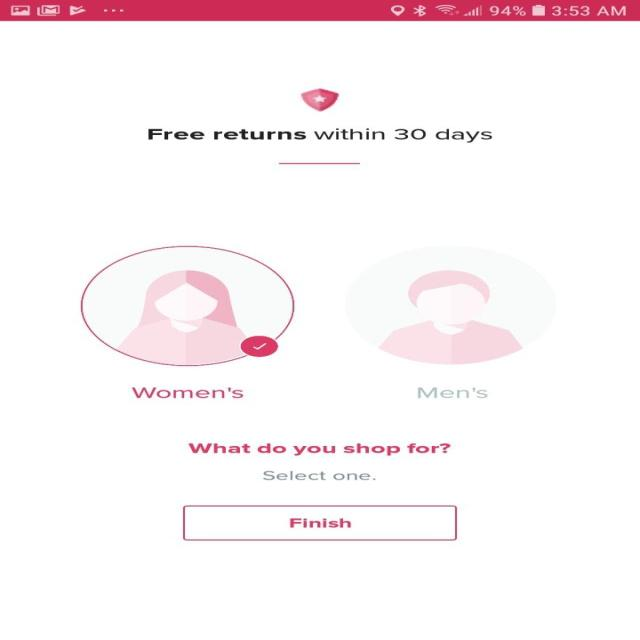Image: (80, 245, 294, 366), (343, 245, 556, 365), (300, 88, 338, 112)
Text: (148, 128, 492, 143), (188, 442, 450, 456), (132, 387, 244, 398), (262, 470, 376, 480), (417, 387, 488, 398)
TextButton: (182, 505, 457, 540)
